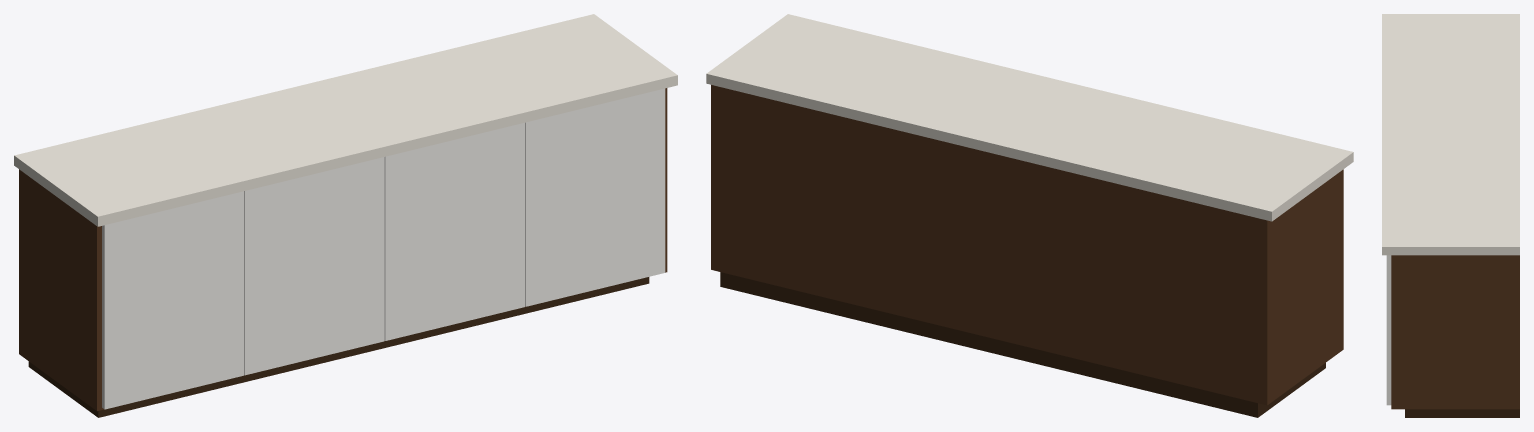
File: kitchenbase-lite.glb
The picture shows the model from 3 angles, left to right: view 1: azimuth 30°, elevation 25°; view 2: azimuth 150°, elevation 25°; view 3: azimuth 270°, elevation 25°; orthographic projection. The views are drawn at different scales.
Parts seen in each view (by area): view 1: material-1-door, material-0-top, material-2-body, material-4-base; view 2: material-2-body, material-0-top, material-4-base; view 3: material-0-top, material-2-body, material-4-base, material-1-door.
Boxes of the visible parts, x1,y1,x2,y2 form: material-1-door: (102,88,665,409); material-0-top: (14,14,677,226); material-2-body: (19,88,667,411); material-4-base: (28,277,649,417); material-2-body: (711,85,1343,405); material-0-top: (706,14,1353,221); material-4-base: (720,272,1325,417); material-0-top: (1382,14,1519,255); material-2-body: (1391,255,1519,409); material-4-base: (1405,409,1519,417); material-1-door: (1386,255,1391,405).
Size of the model in its own units: 2.4 by 0.85 by 0.6.
